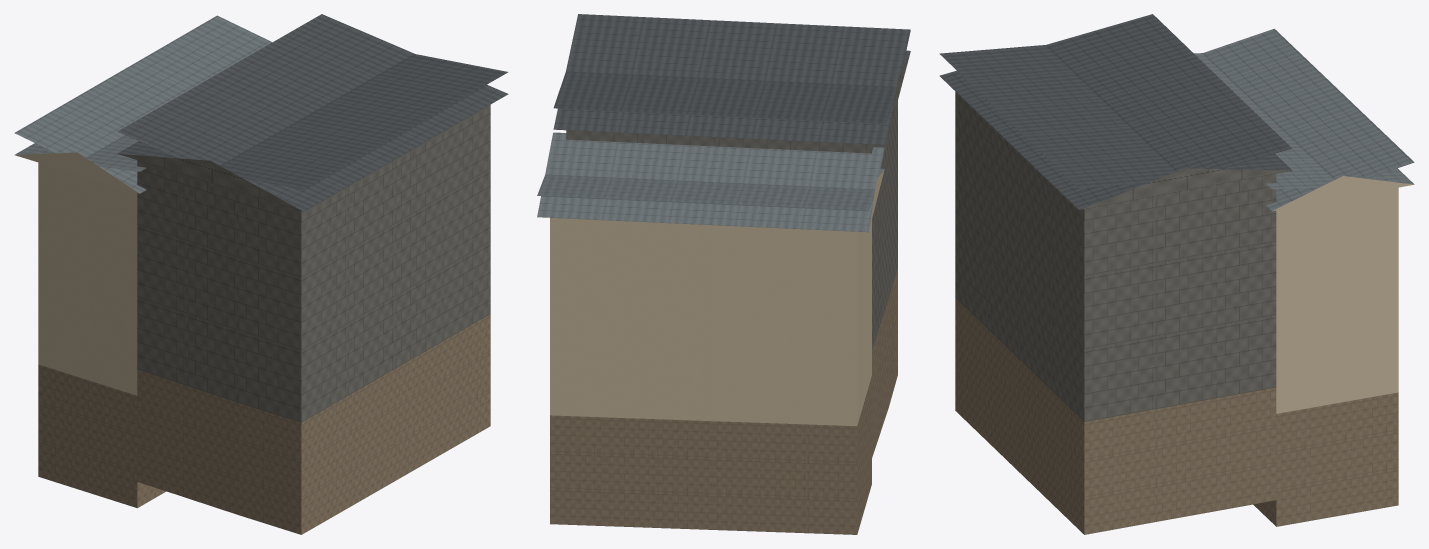
File: bld_c16_26_401.gltf
3 renders of one model, left to right at view 1: azimuth 30°, elevation 25°; view 2: azimuth 150°, elevation 25°; view 3: azimuth 270°, elevation 25°, orthographic. The views are drawn at different scales.
Visible parts, largest first — view 1: bld_c16_26_401; view 2: bld_c16_26_401; view 3: bld_c16_26_401.
Part boxes in pixels (x1=…): bld_c16_26_401: x1=14, y1=14, x2=508, y2=534; bld_c16_26_401: x1=537, y1=14, x2=910, y2=534; bld_c16_26_401: x1=939, y1=14, x2=1414, y2=534.
Bounding box in the file's own units: 18.88 × 17.2 × 19.46.
Materials: 7 (7 with a texture image).
